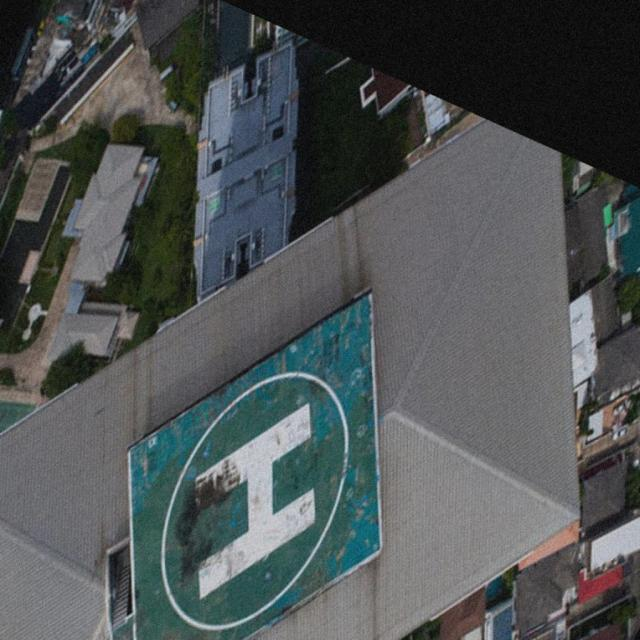helipad: (155, 366, 351, 634)
